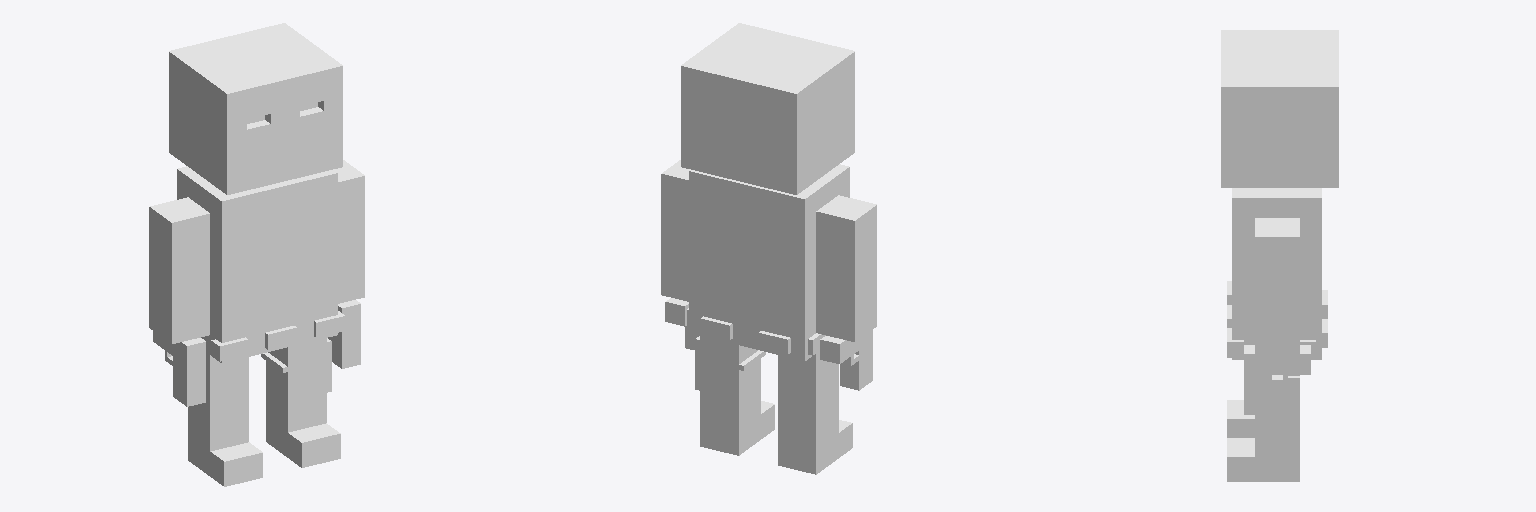
File: RedHood.obj
3 renders of one model, left to right at view 1: azimuth 30°, elevation 25°; view 2: azimuth 150°, elevation 25°; view 3: azimuth 270°, elevation 25°, orthographic.
Parts seen in each view (by area): view 1: object 1; view 2: object 1; view 3: object 1.
Boxes of the visible parts, box(x1,y1,x2,y2) form: object 1: box(149, 23, 364, 486); object 1: box(661, 23, 876, 474); object 1: box(1221, 30, 1338, 481).
Bounding box in the file's own units: 4 × 7.8 × 2.1.